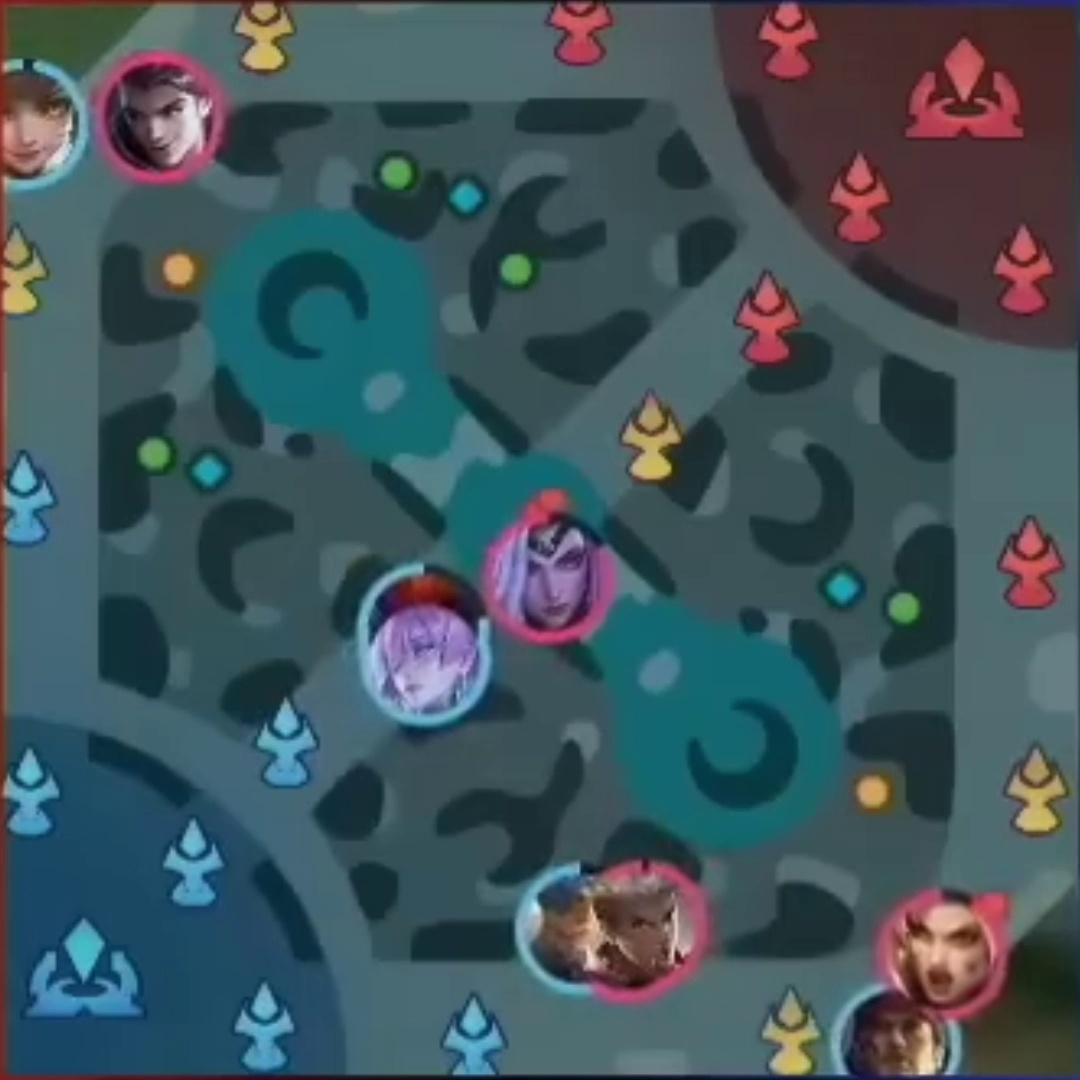Chou: (598, 870, 699, 977)
Claude: (109, 68, 214, 173)
Fredrinn: (522, 872, 602, 985)
Lapu-Lapu: (840, 991, 948, 1080)
Masha: (897, 908, 1004, 1013)
Novaria: (377, 615, 482, 713)
Valentina: (498, 523, 609, 632)
Wanwan: (4, 64, 80, 179)
